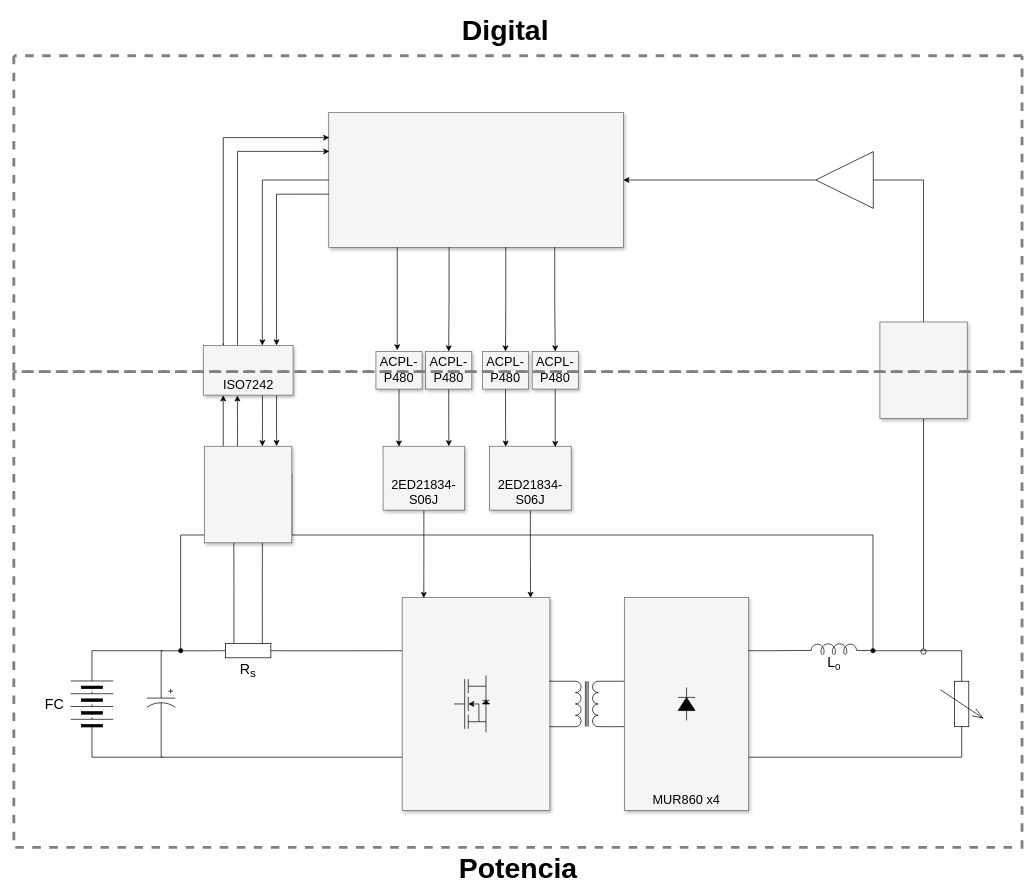
Image size: 1035x896. Some labels were removed from this diagram. The shapes that lost their labels are listed below. From the top down, each one's centre as x and y in pixels, then its label:
At pixel 476 180: "Placa de desarrollo TMS320F28335".
At pixel 923 371: "TMCS1100A4".
At pixel 248 495: "LM5056".
At pixel 476 704: "IRFP150 x4".
